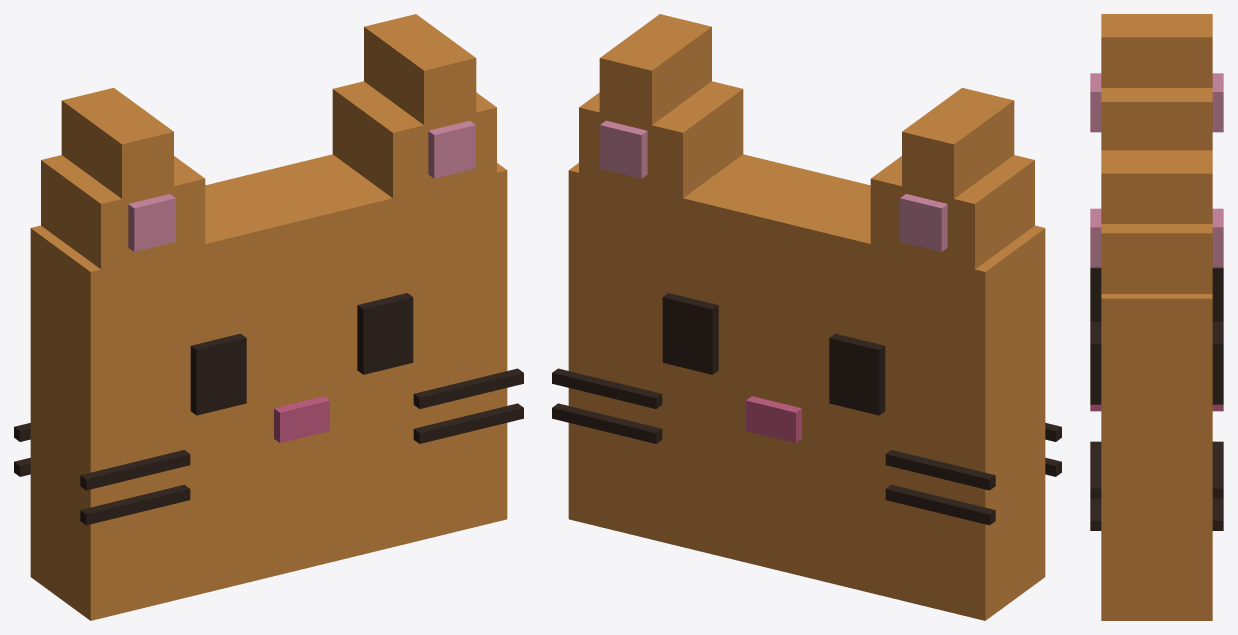
The model's file is ncb-sign-cat.glb.
3 renders of one model, left to right at view 1: azimuth 30°, elevation 25°; view 2: azimuth 150°, elevation 25°; view 3: azimuth 270°, elevation 25°, orthographic. The views are drawn at different scales.
Visible parts, largest first — view 1: box-prop; view 2: box-prop; view 3: box-prop.
Part boxes in pixels (x1,y1,x2,y2): box-prop: [14, 14, 523, 620]; box-prop: [552, 14, 1061, 620]; box-prop: [1090, 14, 1223, 620].
Bounding box in the file's own units: 0.84 × 0.86 × 0.24.
